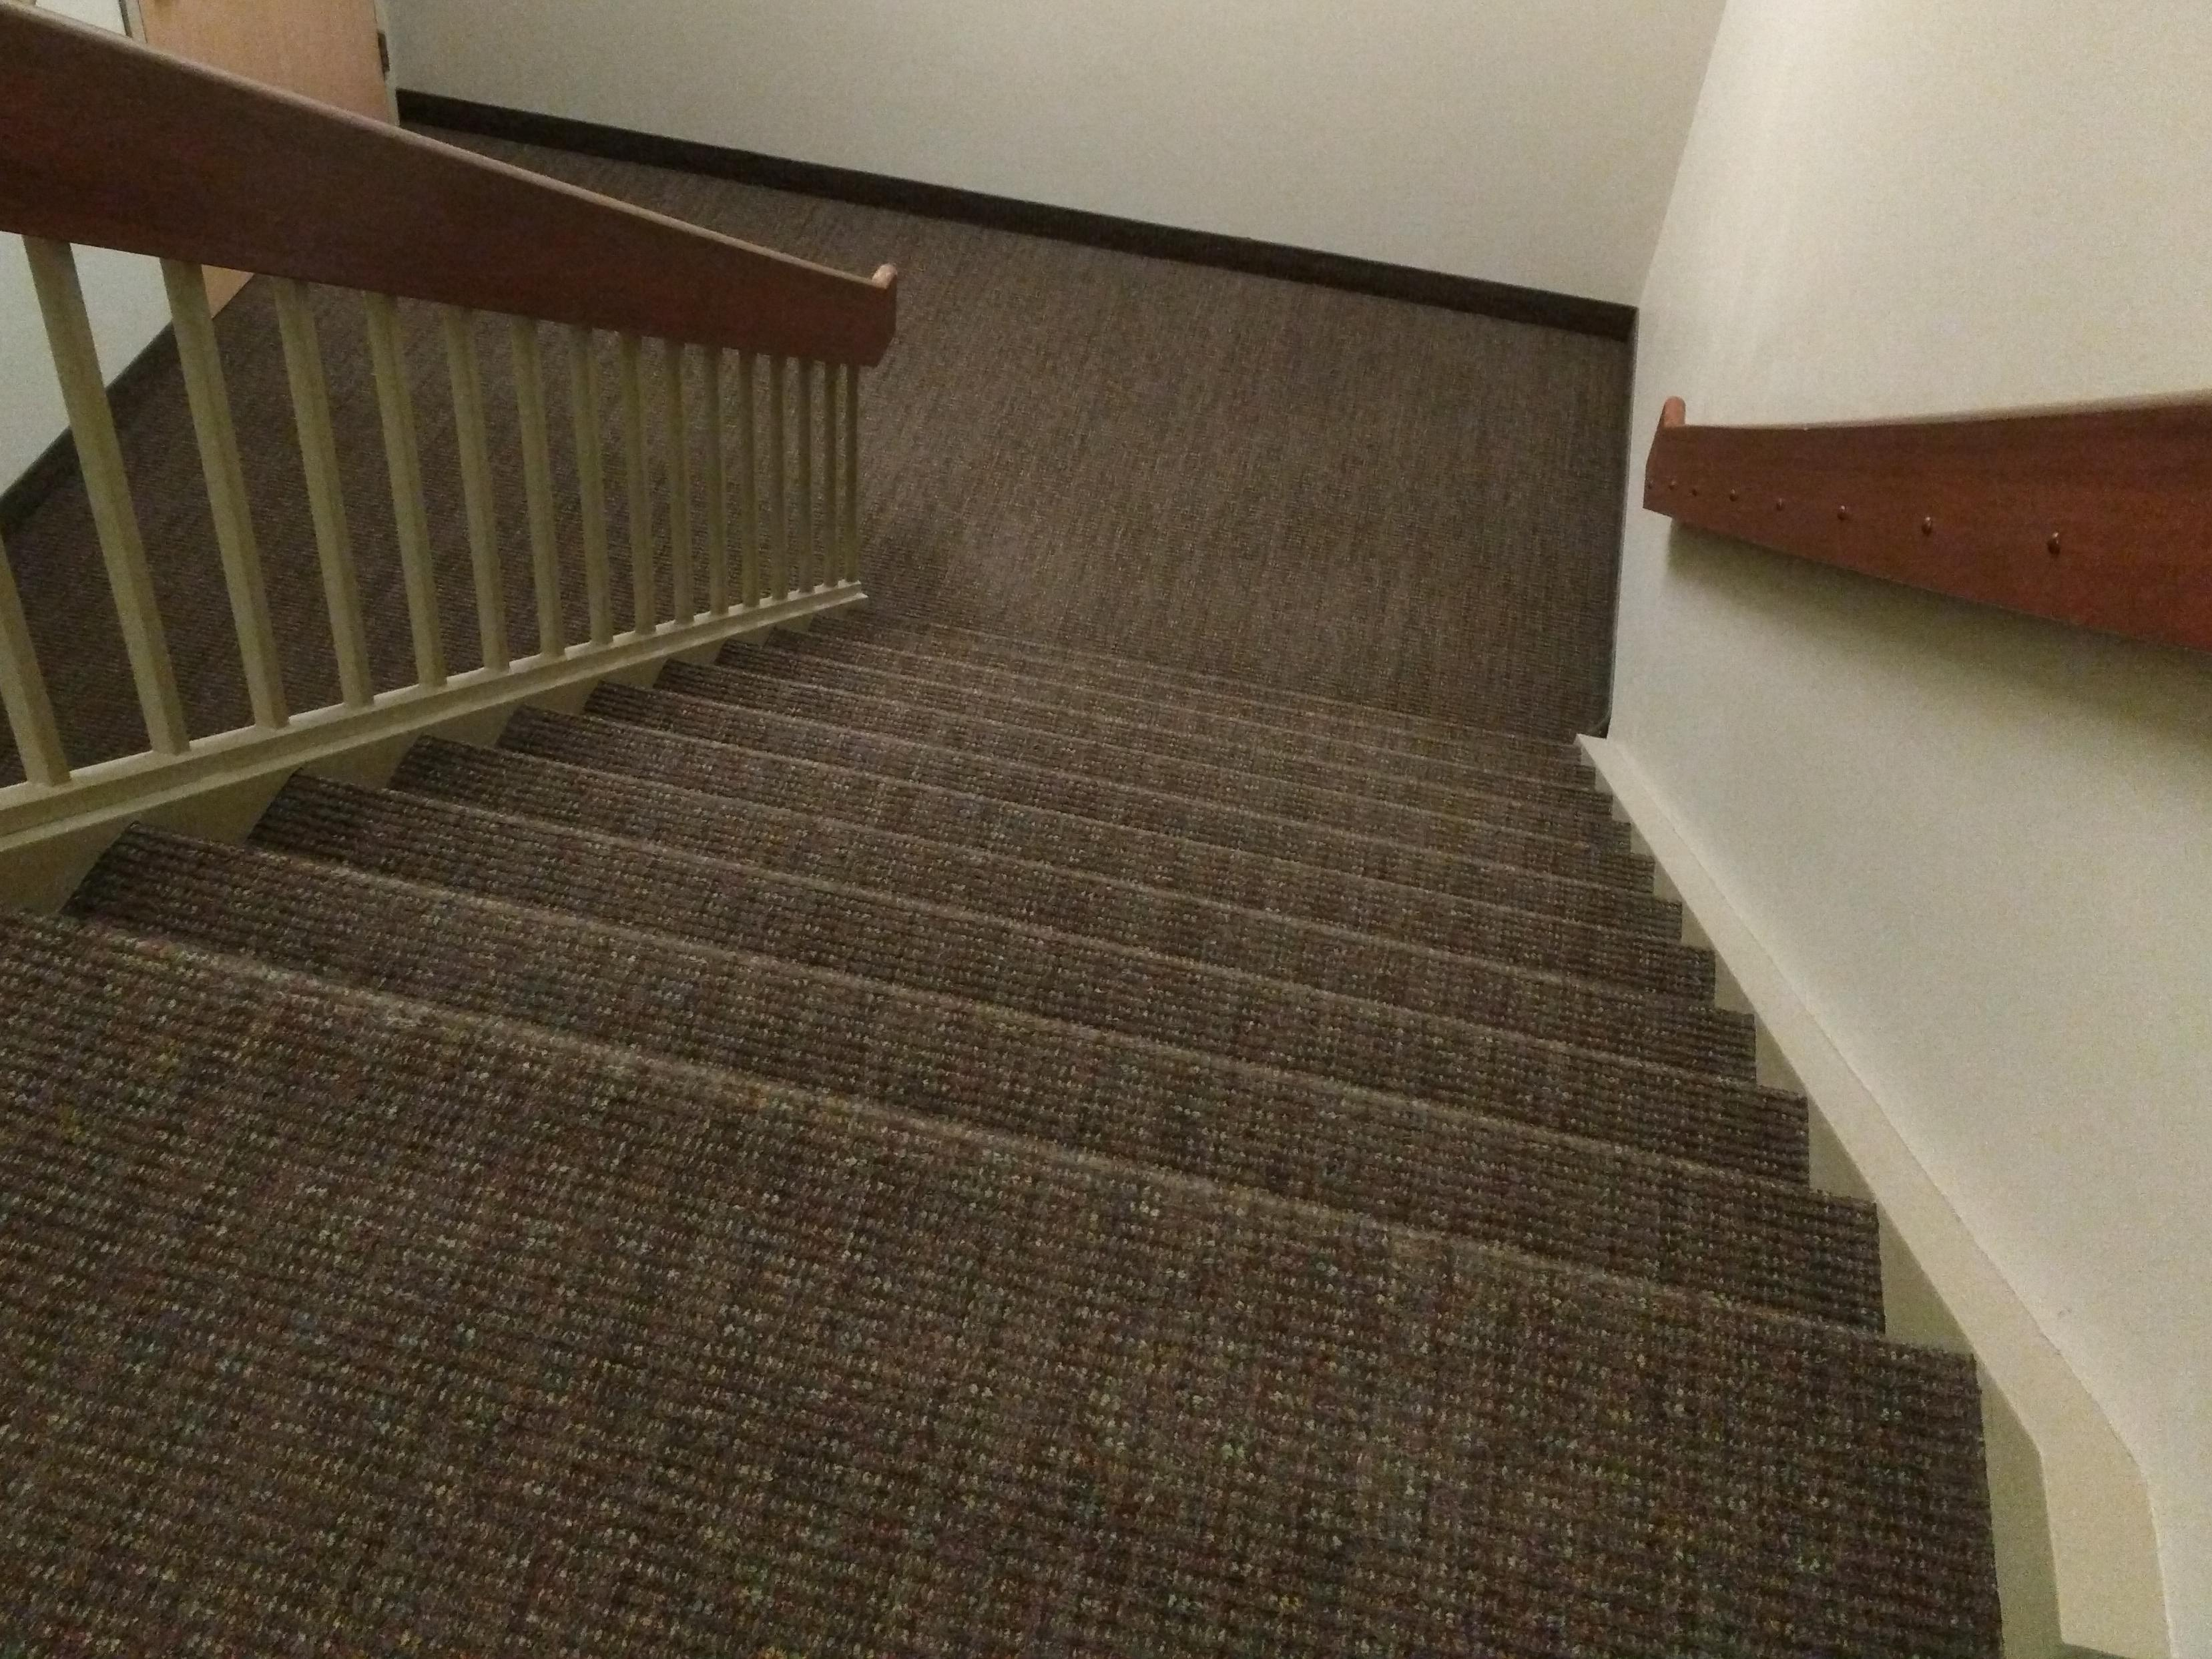stairs_down: (44, 551, 2010, 1425)
